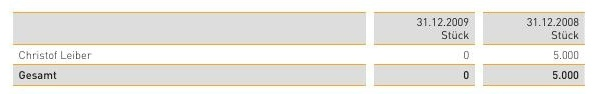table: (0, 0, 599, 94)
